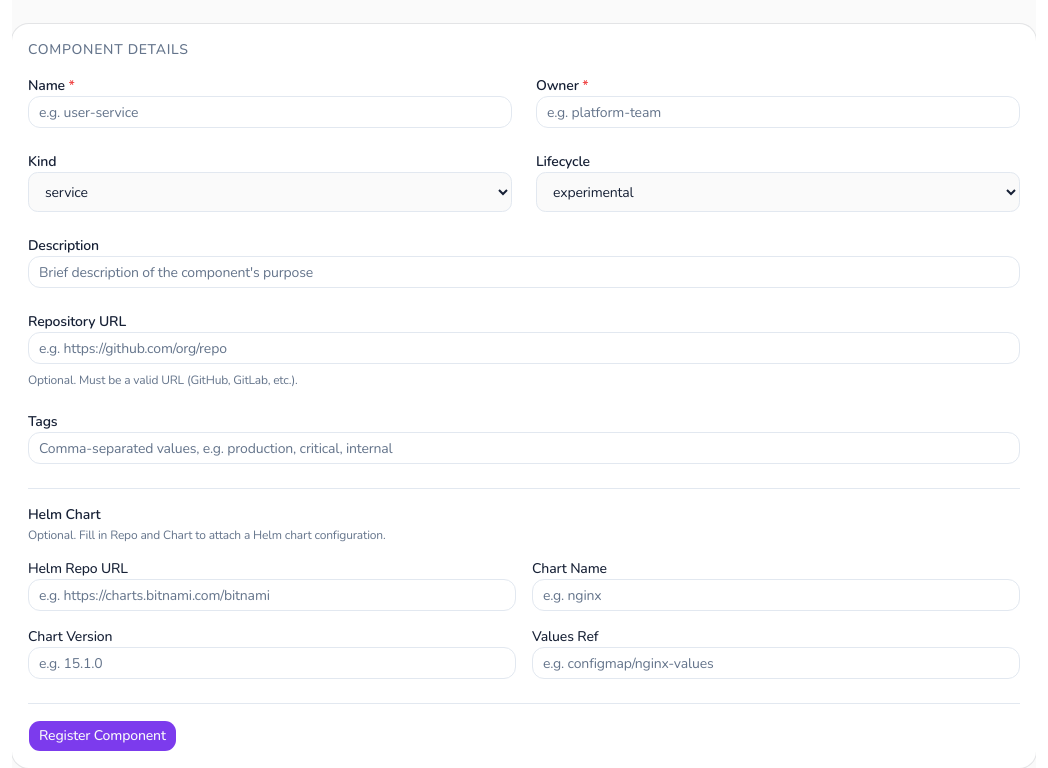
Test: NewComponentClient — Interactive Form tab › shows validation errors when required fields are empty
The width and height of the screenshot is (1048, 768).
(page scrolled)
Click the button "Register Component": (102, 736) [28,720,177,752]
(page scrolled)
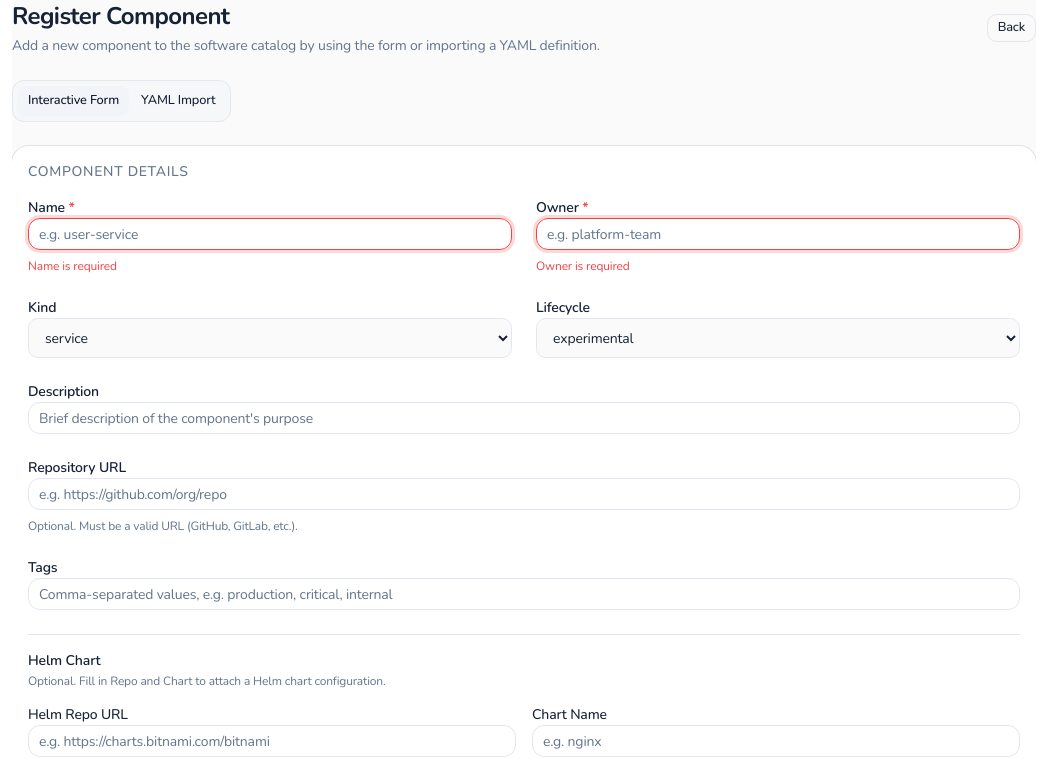
Result: the text "Name is required" is shown at [28,258,117,274]
Result: the text "Owner is required" is shown at [536,258,630,274]
